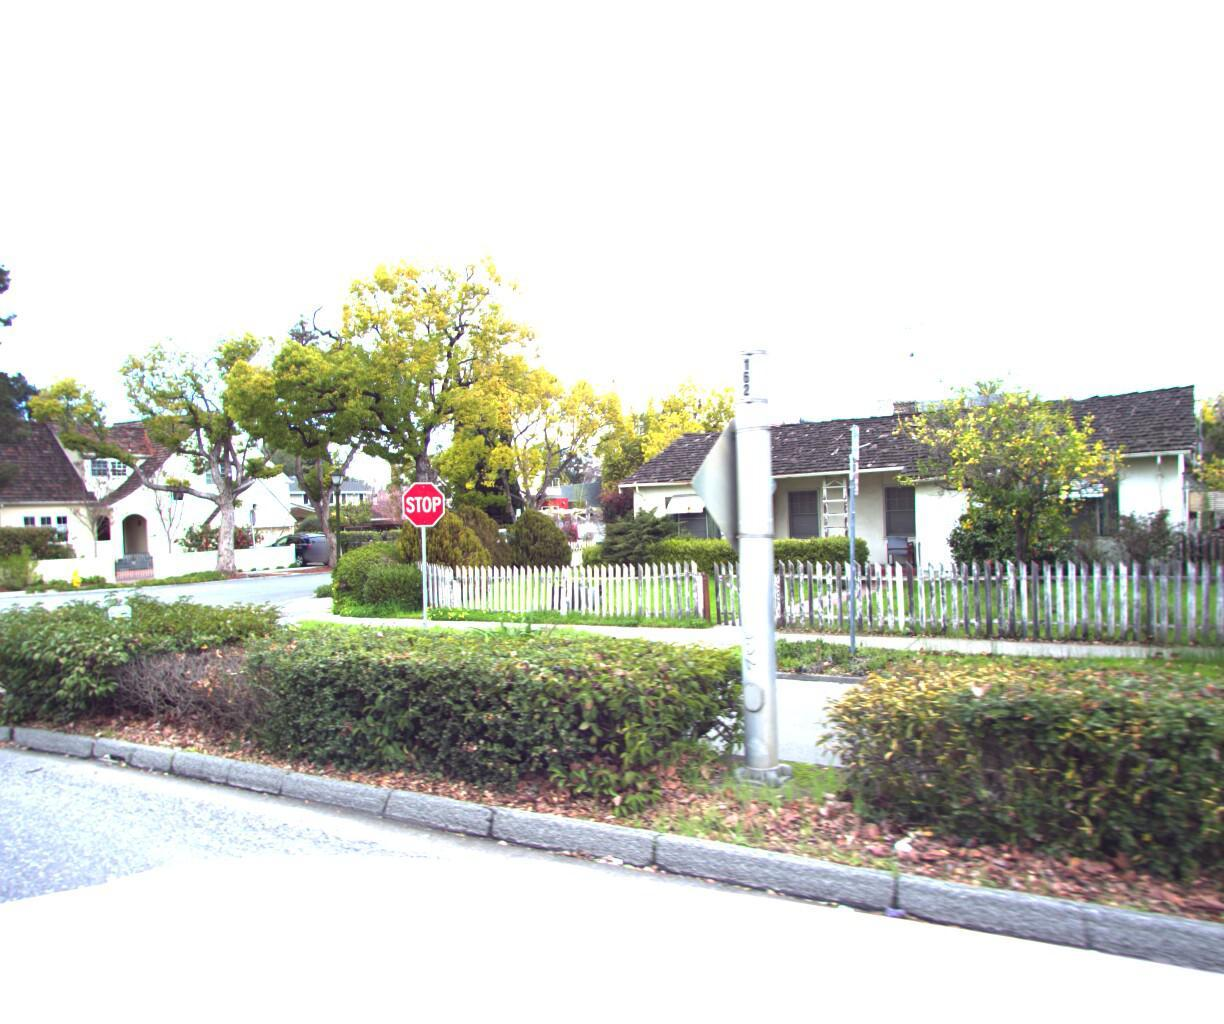car: (253, 524, 343, 560)
